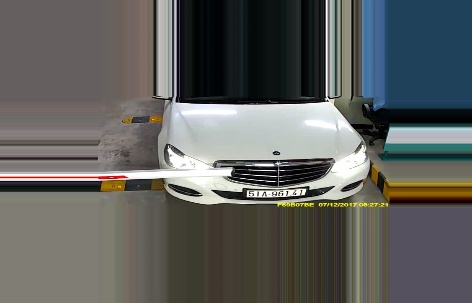plate: (243, 187, 312, 199)
